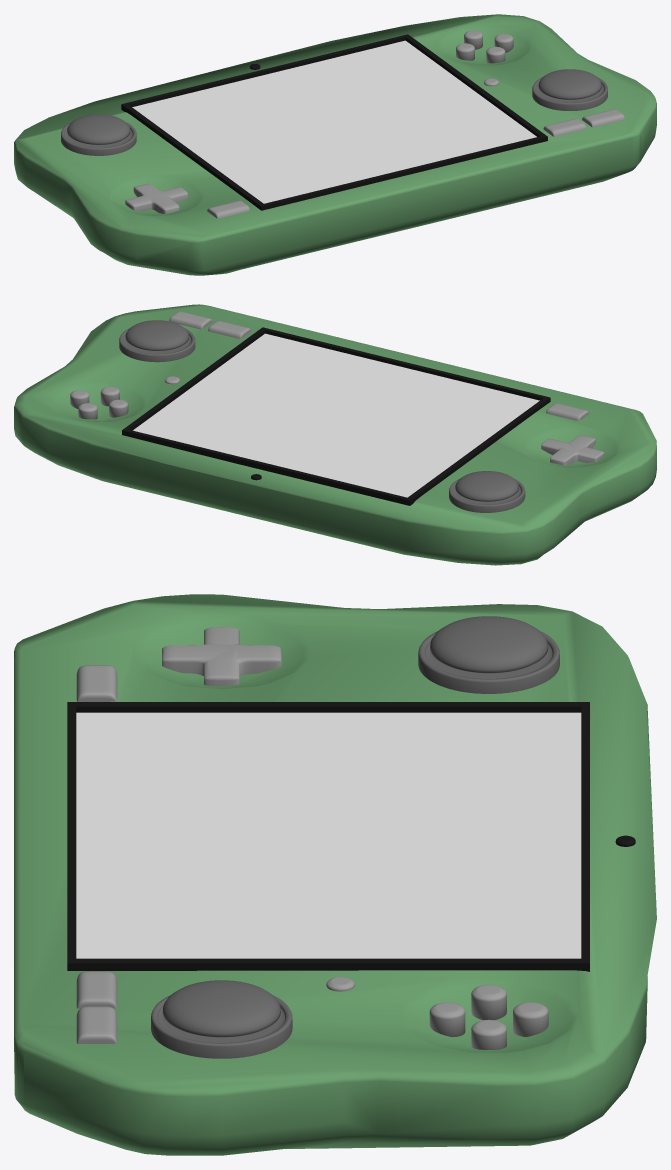
The model's file is consumer gamedevice.fbx.
The picture shows the model from 3 angles, top to bottom: view 1: azimuth 30°, elevation 25°; view 2: azimuth 150°, elevation 25°; view 3: azimuth 270°, elevation 25°; orthographic projection. The views are drawn at different scales.
Visible parts, largest first — view 1: Vert.001, 立方体, 円柱.005, 円柱.004, 立方体.001, 立方体.003, 立方体.002, 立方体.004; view 2: Vert.001, 立方体, 円柱.005, 円柱.004, 立方体.001, 立方体.002, 立方体.003, 立方体.004; view 3: Vert.001, 立方体, 円柱.005, 円柱.004, 立方体.001, 立方体.003, 立方体.004, 立方体.002, 円柱, 円柱.003, 円柱.002, 円柱.001.
Boxes of the visible parts, x1,y1,x2,y2 form: Vert.001: (14,14,656,275); 立方体: (121,34,547,210); 円柱.005: (532,69,607,110); 円柱.004: (61,114,136,155); 立方体.001: (125,183,187,213); 立方体.003: (582,109,625,127); 立方体.002: (543,118,586,136); 立方体.004: (207,200,249,218); Vert.001: (14,304,656,565); 立方体: (122,327,550,505); 円柱.005: (119,320,195,362); 円柱.004: (449,471,525,512); 立方体.001: (541,435,604,465); 立方体.002: (208,320,251,338); 立方体.003: (169,311,212,329); 立方体.004: (546,403,589,421); Vert.001: (14,594,656,1155); 立方体: (67,702,589,971); 円柱.005: (151,980,292,1058); 円柱.004: (418,616,559,693); 立方体.001: (162,627,281,686); 立方体.003: (76,1006,117,1043); 立方体.004: (76,665,117,701); 立方体.002: (76,971,117,1008); 円柱: (471,984,506,1020); 円柱.003: (429,1002,465,1037); 円柱.002: (513,1002,548,1036); 円柱.001: (471,1019,506,1049).
Bounding box in the file's own units: 199 × 23.69 × 108.
